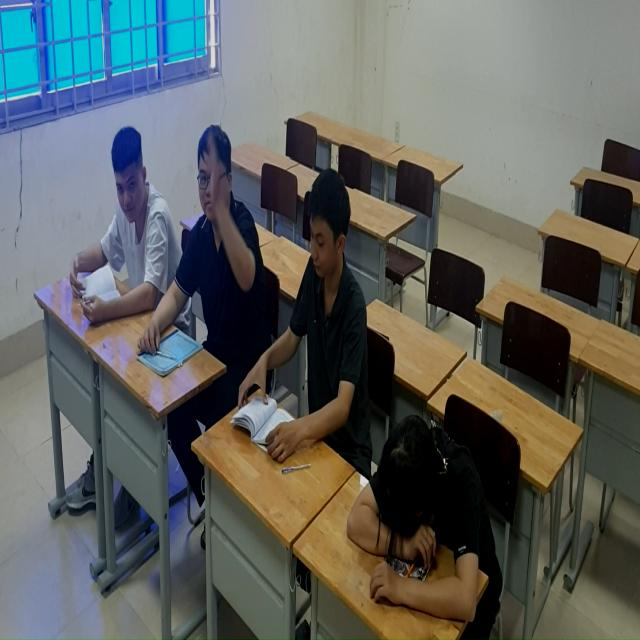raise_hand: (185, 91, 267, 371)
read: (233, 170, 374, 473), (67, 104, 198, 348)
sleep: (348, 411, 519, 640)
